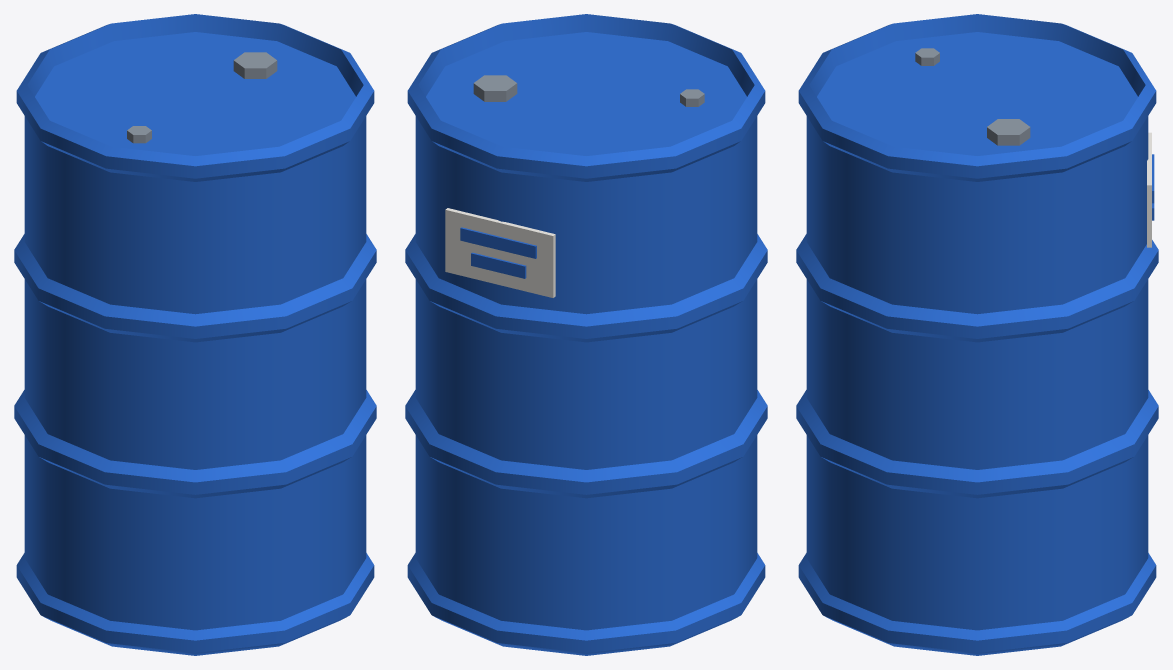
File: barrel.glb
The picture shows the model from 3 angles, left to right: view 1: azimuth 30°, elevation 25°; view 2: azimuth 150°, elevation 25°; view 3: azimuth 270°, elevation 25°; orthographic projection.
Parts seen in each view (by area): view 1: barrel; view 2: barrel; view 3: barrel.
Part boxes in pixels (left/top/right/bottom): barrel: left=14, top=14, right=376, bottom=655; barrel: left=405, top=14, right=767, bottom=655; barrel: left=796, top=14, right=1158, bottom=655.
Size of the model in its own units: 0.582 by 0.886 by 0.582.
